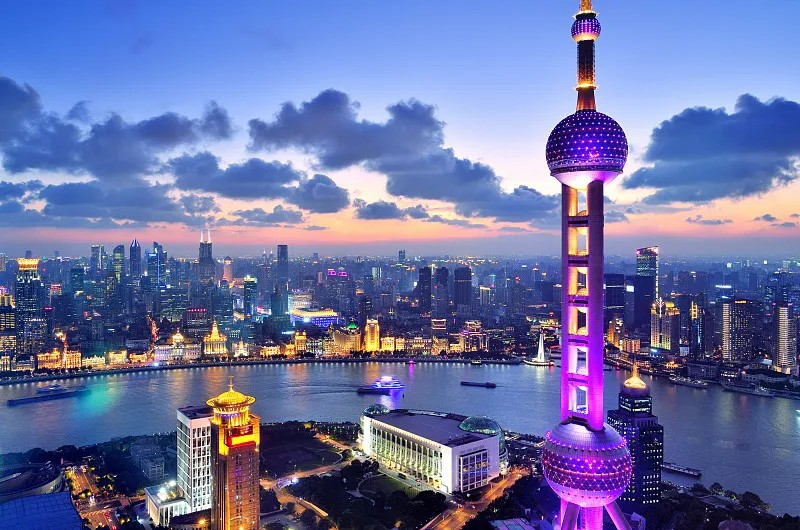Oriental: (542, 2, 631, 530)
